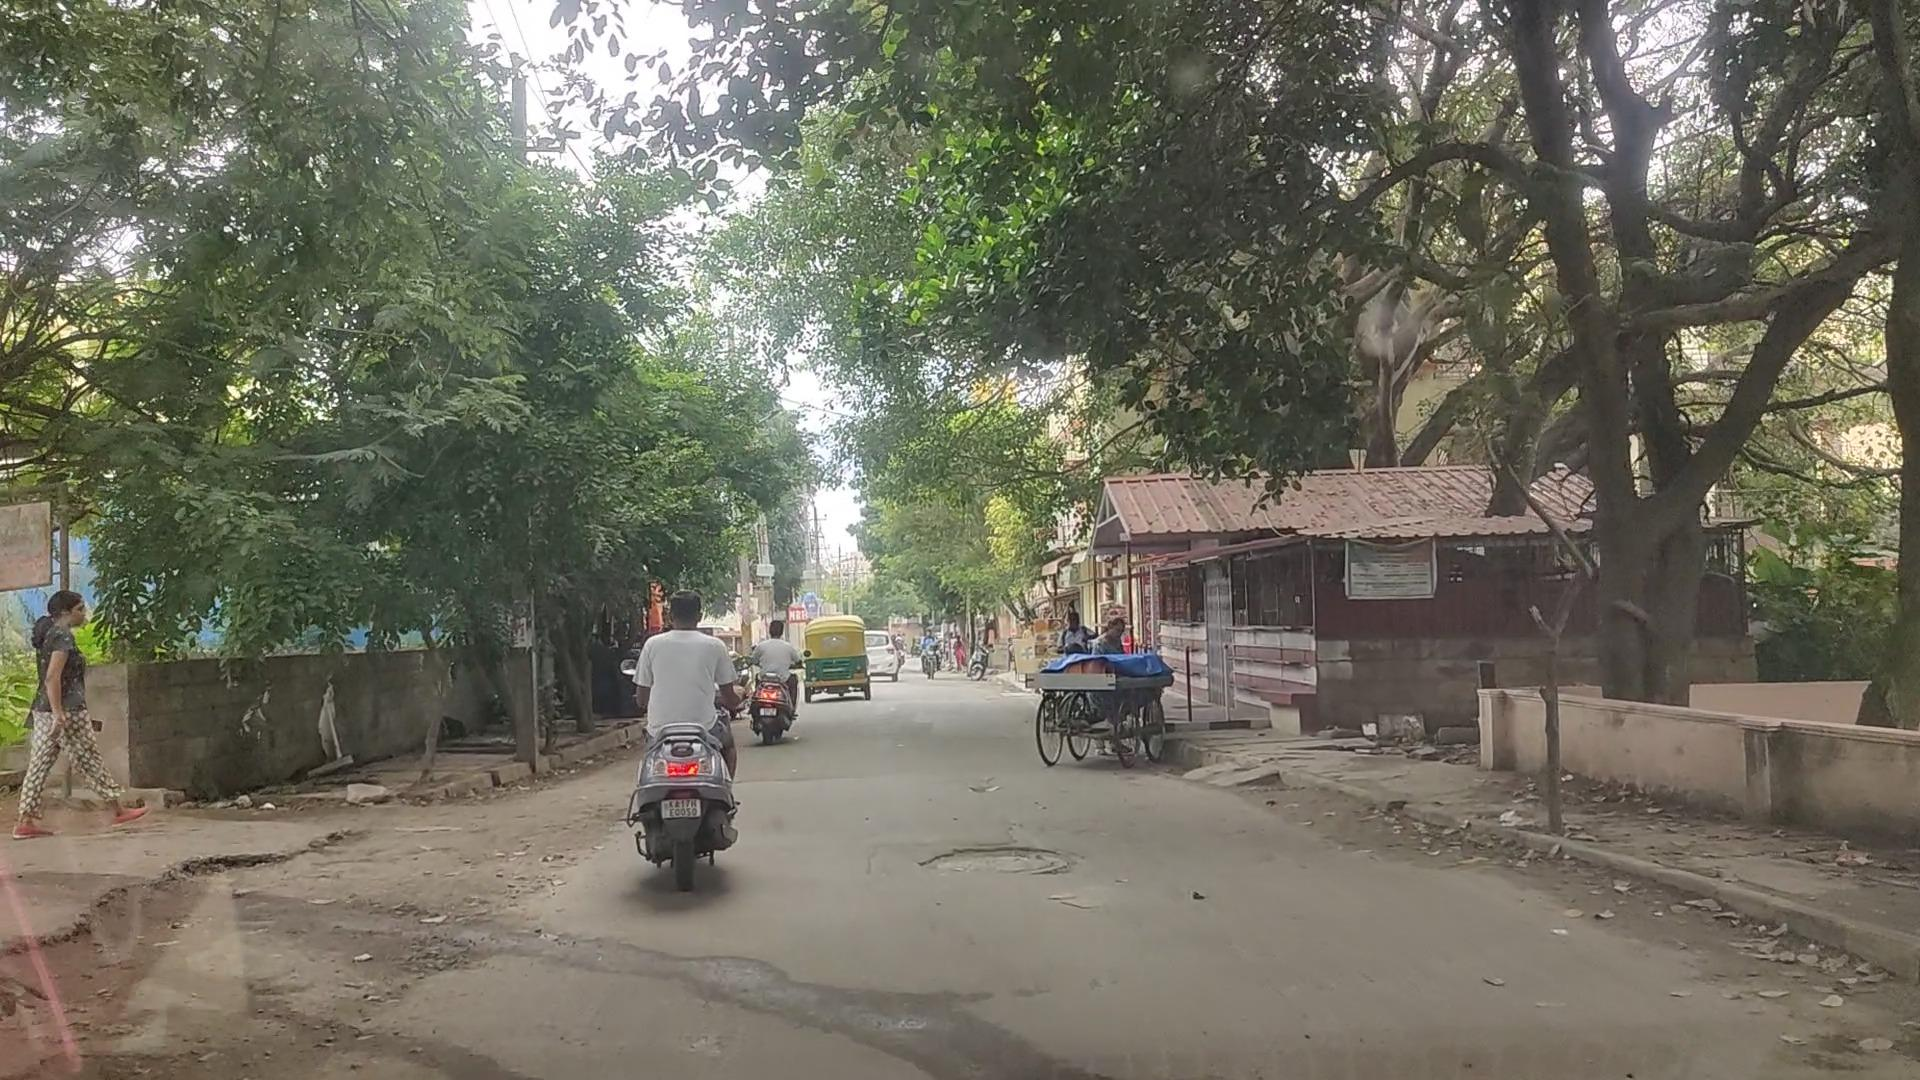LMV: (633, 579, 740, 894)
RoadDamages: (281, 923, 566, 1027), (481, 812, 626, 902), (910, 828, 1075, 885)
